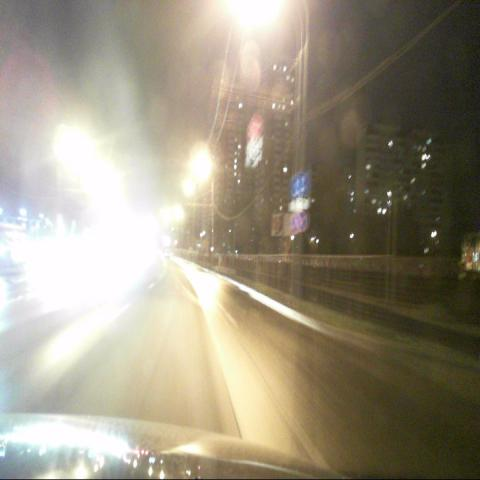3_1: (251, 115, 263, 137)
